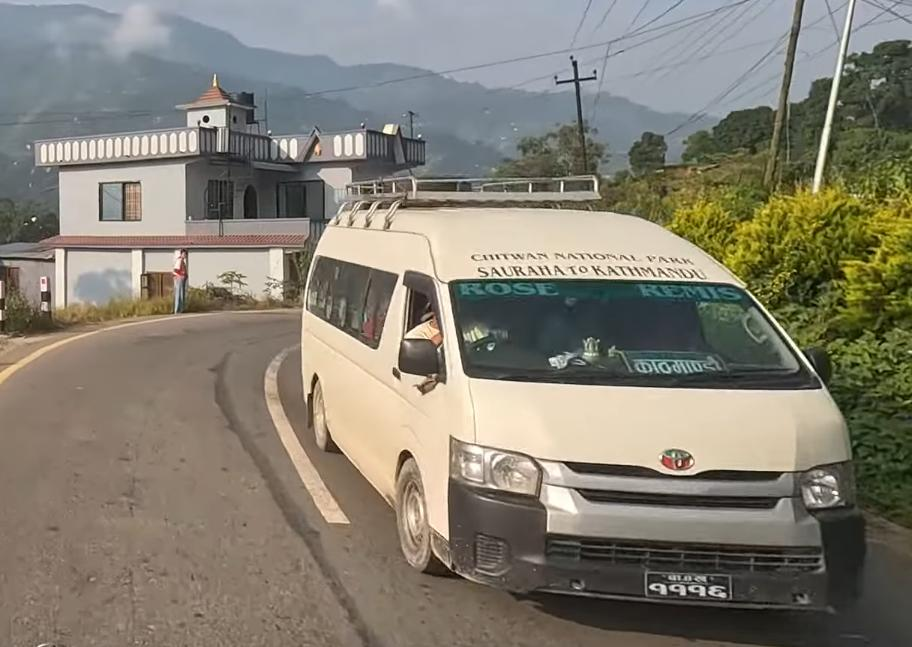micro_bus: (295, 167, 870, 629)
